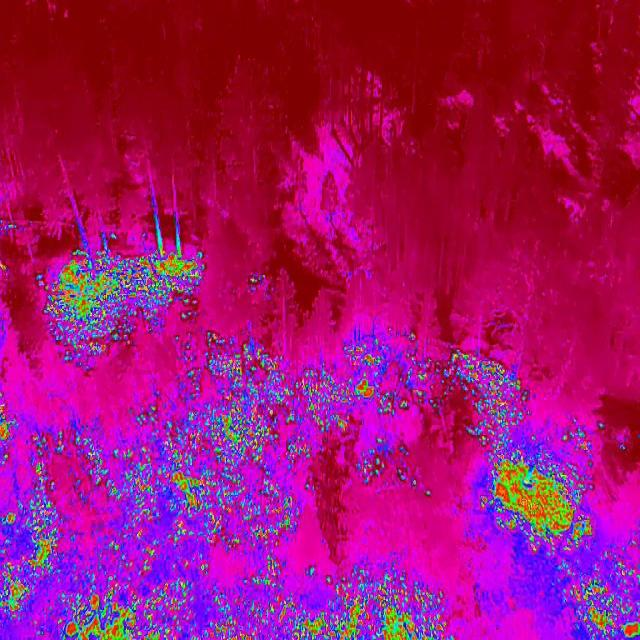fire: (0, 399, 295, 640), (184, 323, 530, 447), (38, 236, 212, 372), (480, 424, 608, 560), (295, 557, 455, 640), (547, 534, 640, 640), (352, 430, 442, 500)
